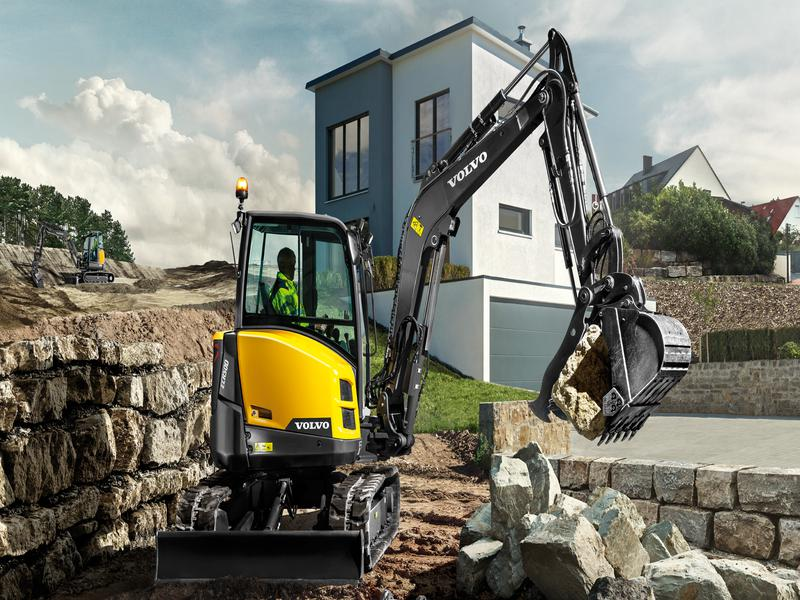shovel: (155, 28, 696, 600)
